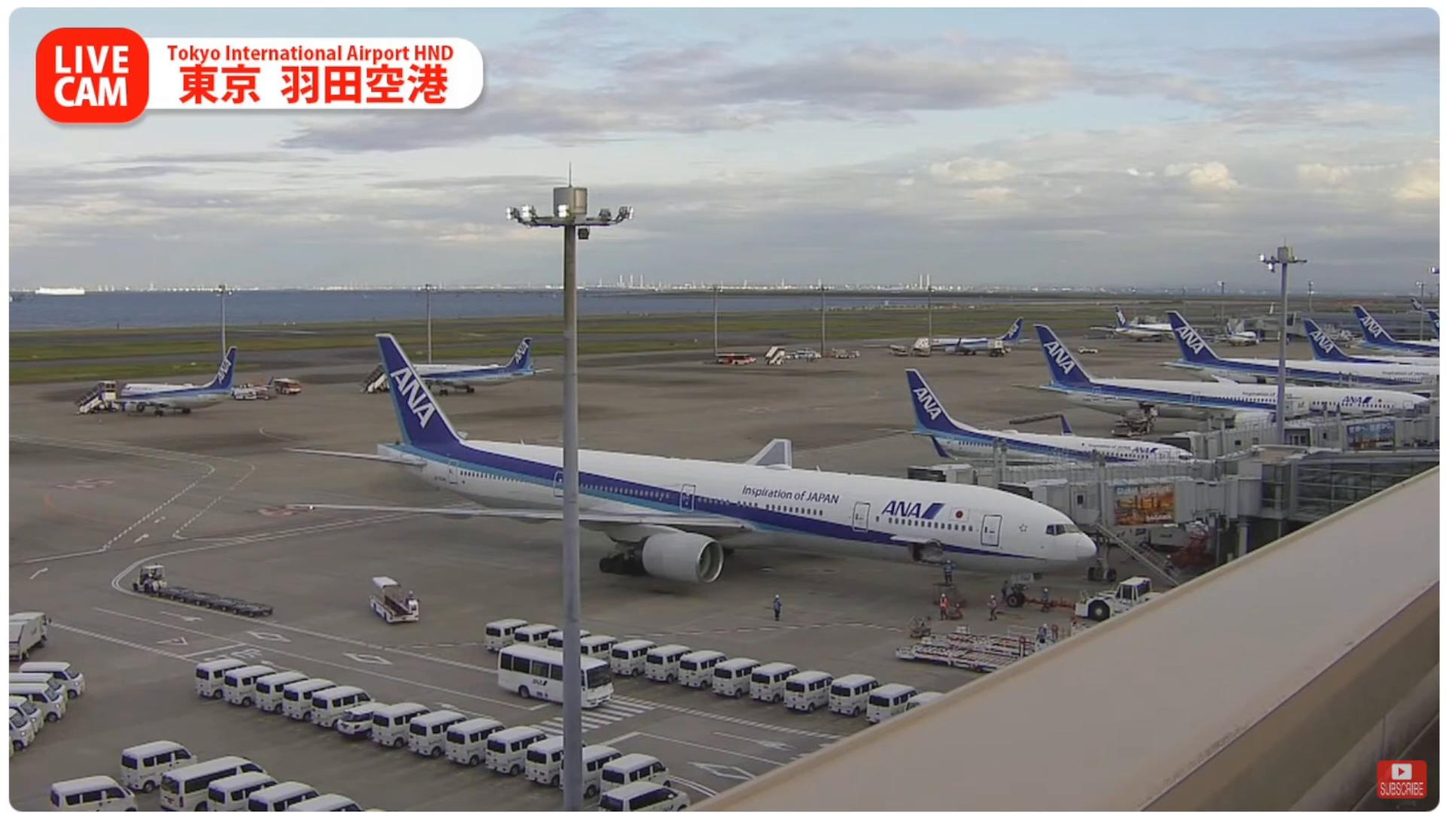APS: (1079, 573, 1169, 620)
Aerobridge: (937, 438, 1217, 490), (1025, 480, 1229, 535)
Airplane: (279, 328, 1098, 610)
Dolly: (150, 582, 277, 620)
JCPL: (887, 631, 1031, 673), (940, 627, 1056, 658)
Skyloader: (365, 567, 430, 629)
Tractor: (126, 563, 169, 599)
Window: (1286, 455, 1435, 523)
